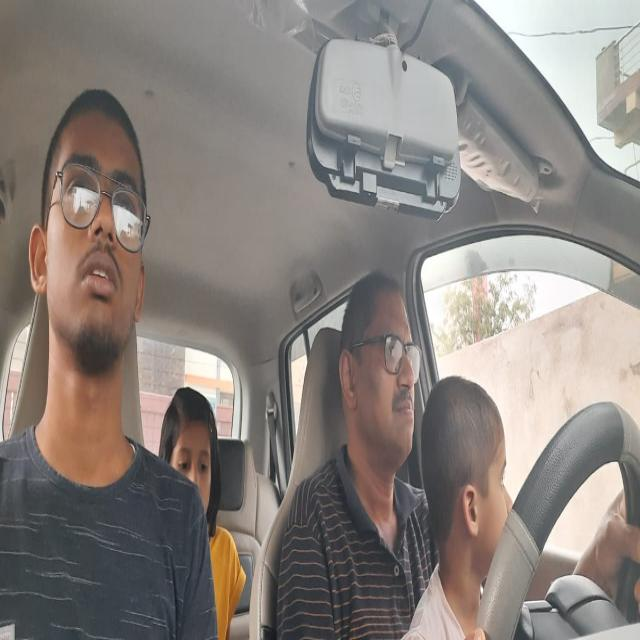child: (423, 377, 518, 582)
person: (28, 85, 153, 391), (339, 270, 420, 492), (161, 384, 220, 532)
